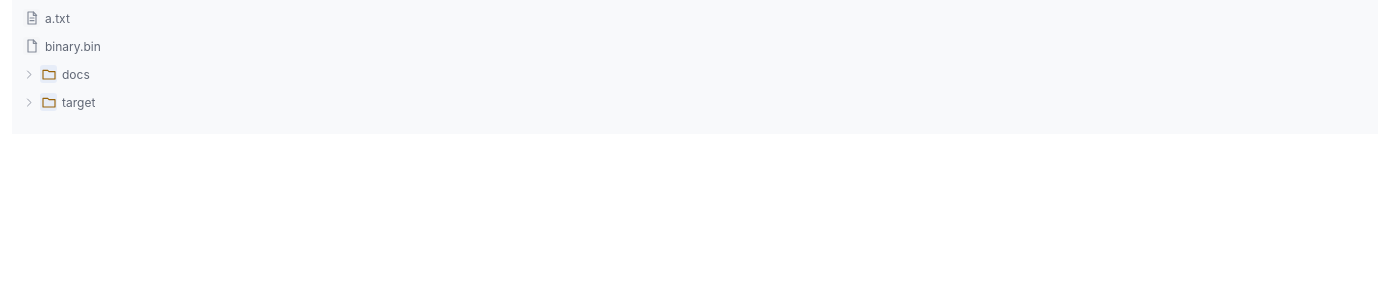
Test: file-tree context menu › shows root, ordinary file and folder command sets with dangerous action last
Right-click the element named "工作区文件树".
right_click(695, 67)  # box left=12, top=0, right=1378, bottom=134
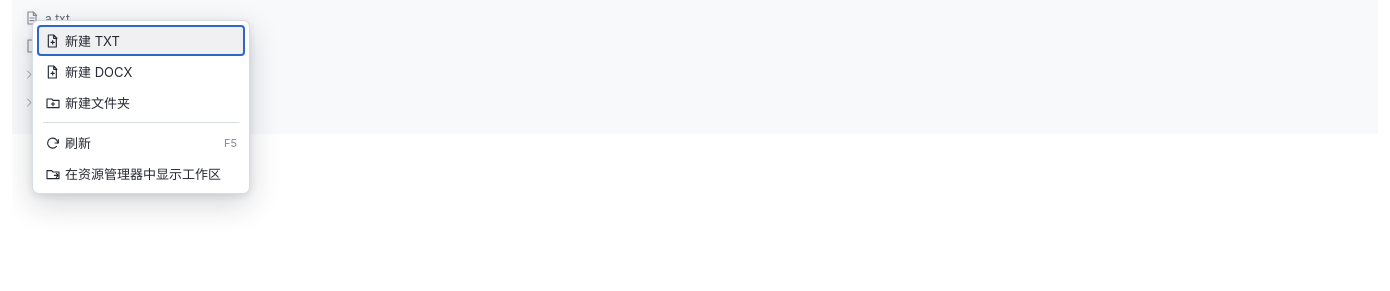
Check: the menu item "新建 TXT" is shown, box left=37, top=25, right=245, bottom=56
Check: the menu item "在资源管理器中显示工作区" is shown, box left=37, top=158, right=245, bottom=189
Press Escape
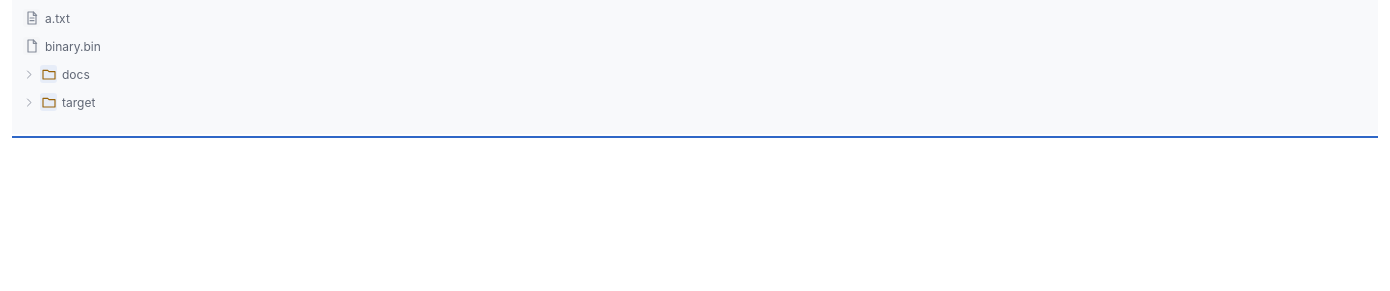
Right-click the button "a.txt".
right_click(32, 18)  # box left=12, top=4, right=1378, bottom=32
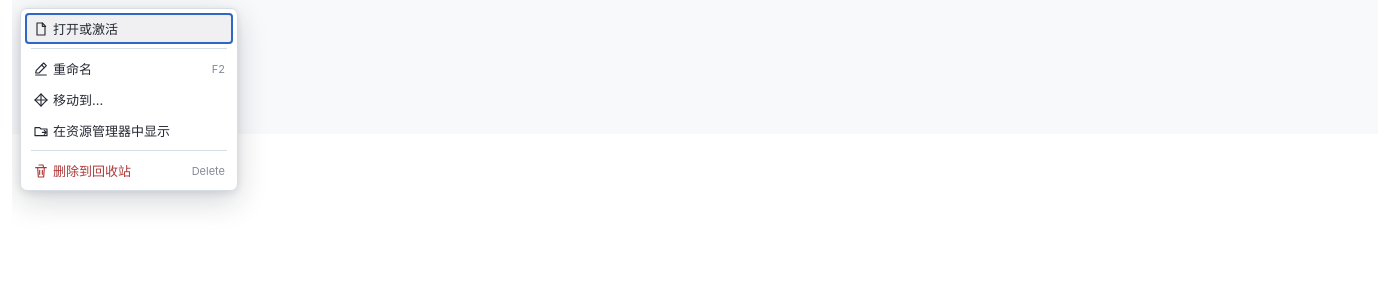
Check: the menu item "打开或激活" is shown, box left=25, top=13, right=233, bottom=44
Check: the menu item "删除到回收站 Delete" is shown, box left=25, top=155, right=233, bottom=186
Press Escape
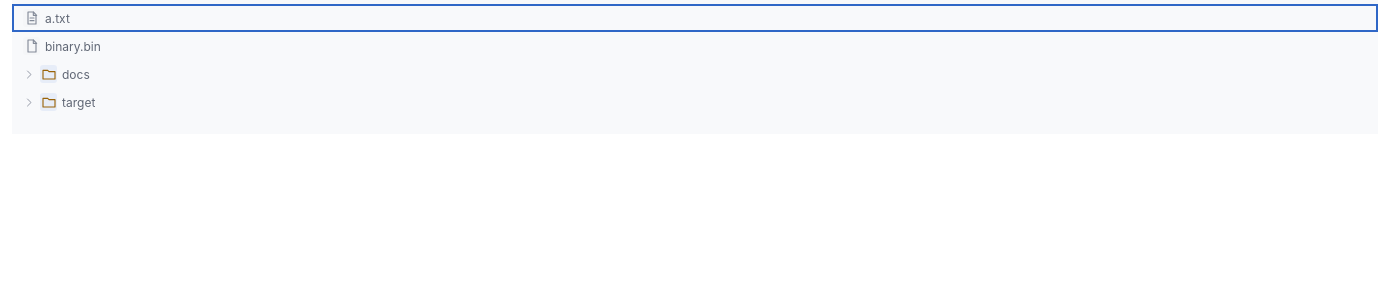
Right-click the button "docs".
right_click(29, 74)  # box left=12, top=60, right=1378, bottom=88
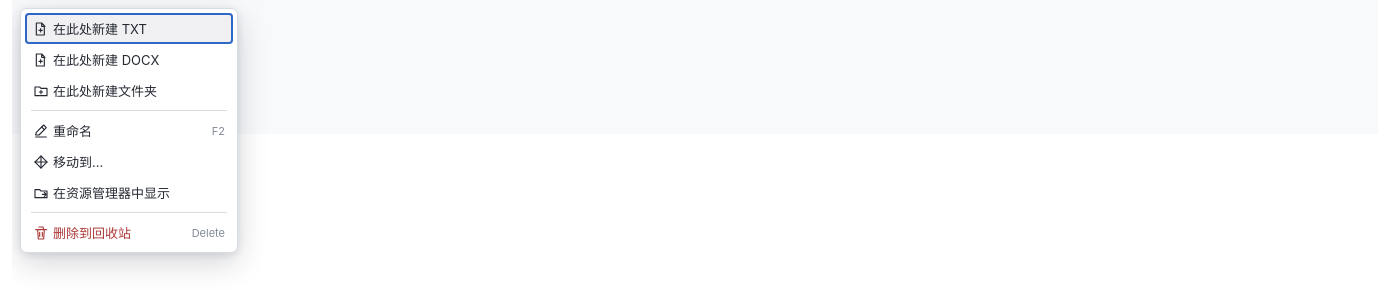
Check: the menu item "在此处新建文件夹" is shown, box left=25, top=75, right=233, bottom=106
